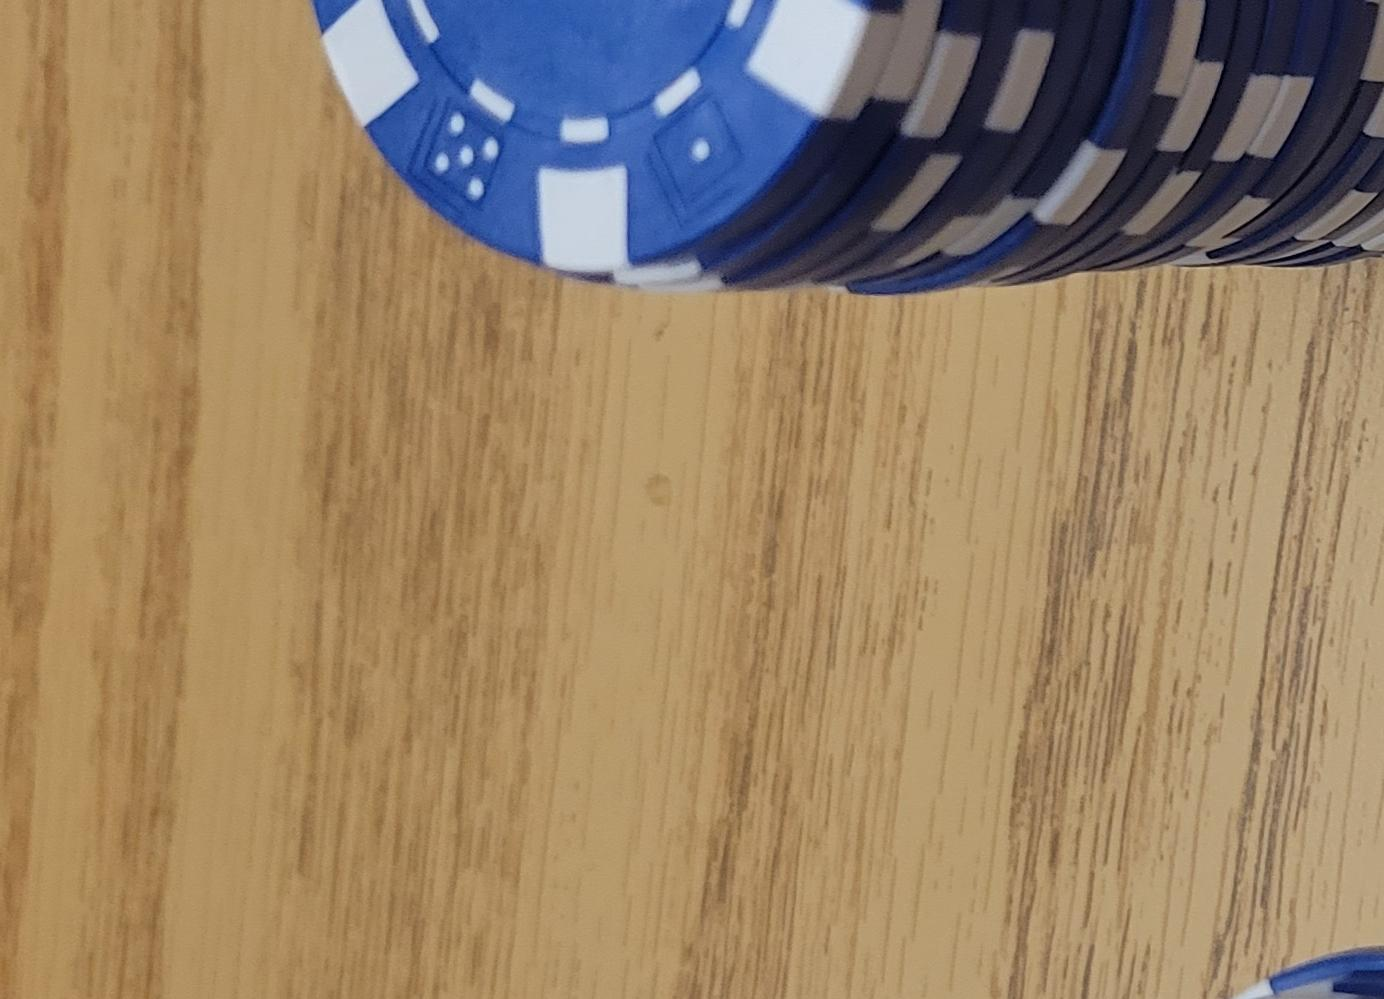Chip: (1, 310, 946, 999)
